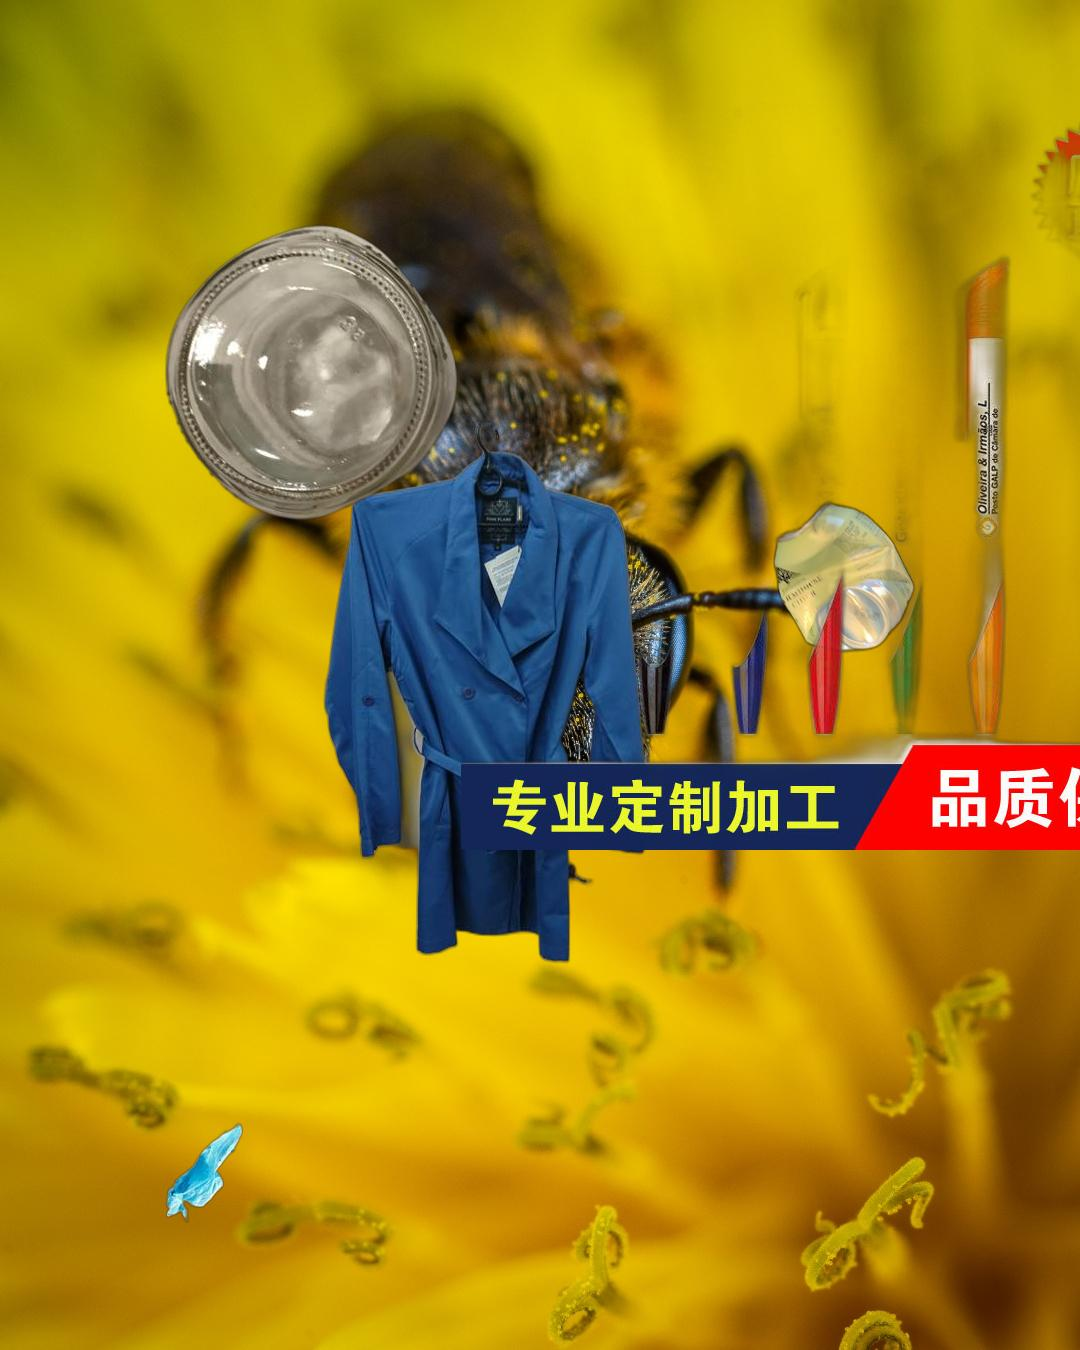clothes: (320, 395, 650, 966)
glass: (161, 222, 462, 523)
metal-cans: (769, 495, 919, 658)
penholder: (461, 100, 1080, 850)
plastic-bag: (164, 1121, 246, 1225)
